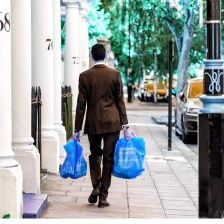plastic_bag: (111, 119, 150, 186), (52, 125, 93, 184)
